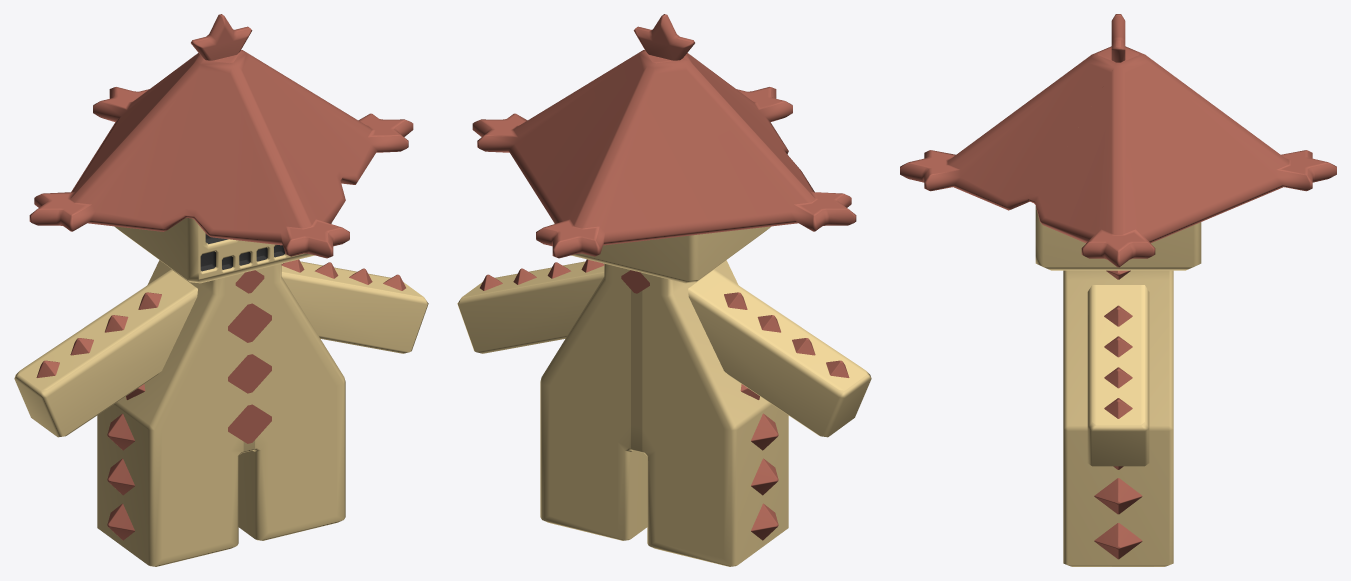
Rendered from model_shiny.obj.
3 renders of one model, left to right at view 1: azimuth 30°, elevation 25°; view 2: azimuth 150°, elevation 25°; view 3: azimuth 270°, elevation 25°, orthographic.
Parts seen in each view (by area): view 1: 0332_cacturne_shiny; view 2: 0332_cacturne_shiny; view 3: 0332_cacturne_shiny.
Boxes of the visible parts, <box> form: 0332_cacturne_shiny: <box>14,14,428,566</box>; 0332_cacturne_shiny: <box>457,14,871,566</box>; 0332_cacturne_shiny: <box>900,14,1336,566</box>.
Bounding box in the file's own units: 2.4 × 3.03 × 2.37.
1 material, 1 textured.
